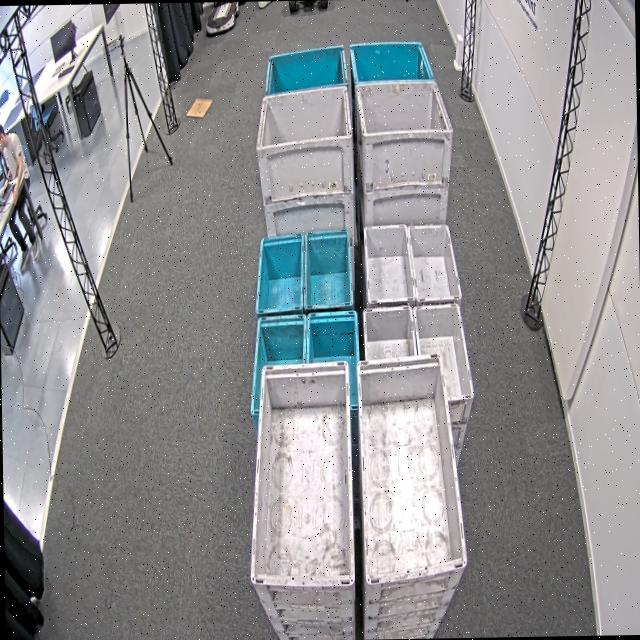Roll3G: (355, 350, 468, 586), (244, 359, 356, 592)
Roll4G: (254, 85, 352, 152), (354, 78, 454, 136)
Roll8G: (362, 302, 474, 404), (362, 222, 462, 304)
RollB4: (262, 44, 348, 96), (348, 38, 436, 85)
RollB8: (248, 310, 360, 417), (253, 228, 353, 316)
